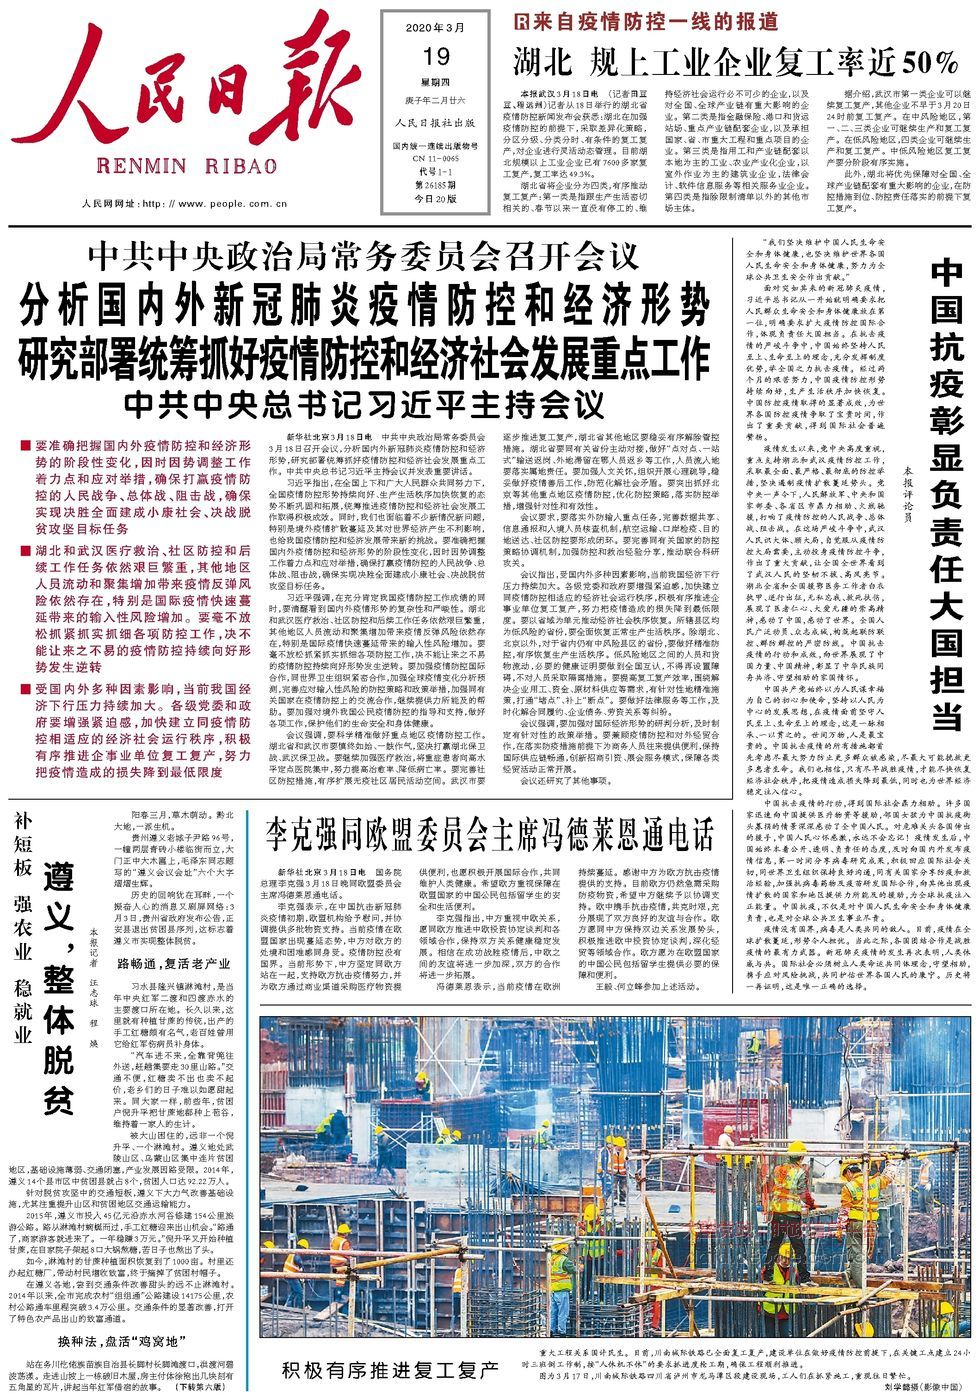pic: (255, 1012, 975, 1344)
